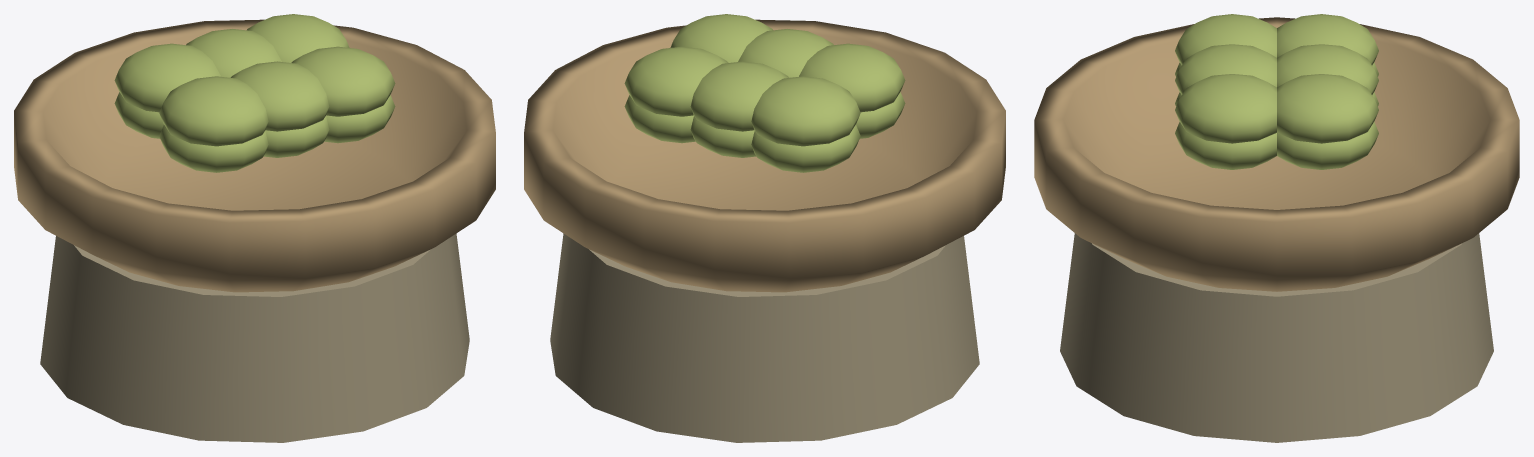
The model's file is fixture-zebra-graze-v01.glb.
The picture shows the model from 3 angles, left to right: view 1: azimuth 30°, elevation 25°; view 2: azimuth 150°, elevation 25°; view 3: azimuth 270°, elevation 25°; orthographic projection.
Parts seen in each view (by area): view 1: bowl, post, portion-9, portion-11, portion-6, portion-10, portion-8, portion-3, portion-7, portion-5, portion-4, portion-0; view 2: bowl, post, portion-6, portion-8, portion-9, portion-7, portion-11, portion-0, portion-10, portion-2, portion-1, portion-3; view 3: bowl, post, portion-8, portion-11, portion-6, portion-9, portion-7, portion-10, portion-2, portion-5.
Part boxes in pixels (x1,y1,x2,y2): bowl: [14, 19, 495, 292]; post: [40, 233, 469, 442]; portion-9: [159, 76, 268, 146]; portion-11: [291, 46, 395, 116]; portion-6: [114, 43, 220, 112]; portion-10: [230, 61, 329, 131]; portion-8: [247, 14, 349, 62]; portion-3: [159, 125, 268, 172]; portion-7: [186, 29, 281, 77]; portion-5: [324, 95, 395, 143]; portion-4: [263, 116, 329, 157]; portion-0: [114, 92, 163, 138]; bowl: [524, 19, 1005, 292]; post: [550, 233, 979, 442]; portion-6: [751, 76, 860, 146]; portion-8: [624, 46, 728, 116]; portion-9: [799, 43, 905, 112]; portion-7: [690, 61, 789, 131]; portion-11: [670, 14, 772, 62]; portion-0: [751, 125, 860, 172]; portion-10: [738, 29, 833, 77]; portion-2: [624, 95, 695, 143]; portion-1: [690, 116, 756, 157]; portion-3: [856, 92, 905, 138]; bowl: [1034, 17, 1519, 291]; post: [1060, 233, 1493, 442]; portion-8: [1277, 74, 1378, 143]; portion-11: [1175, 74, 1276, 143]; portion-6: [1277, 14, 1378, 65]; portion-9: [1175, 14, 1276, 65]; portion-7: [1277, 44, 1378, 94]; portion-10: [1175, 44, 1276, 94]; portion-2: [1277, 122, 1378, 169]; portion-5: [1175, 122, 1276, 169].
Size of the model in its own units: 0.38 by 0.258 by 0.38.
